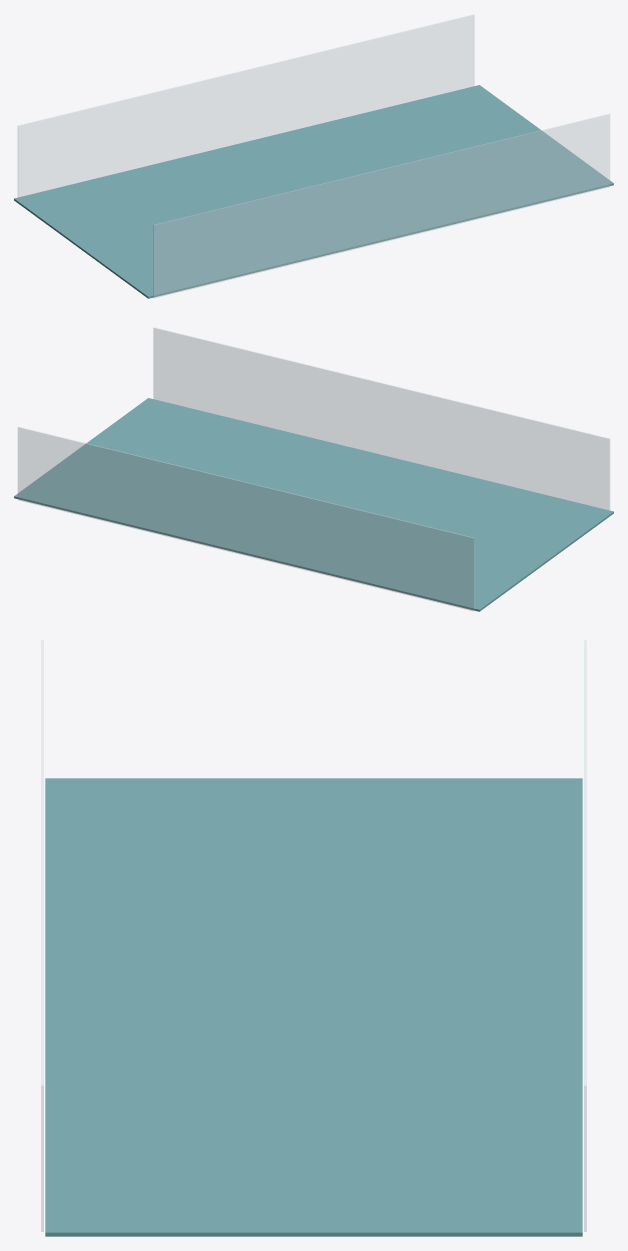
Rendered from padel-court.glb.
3 renders of one model, top to bottom at view 1: azimuth 30°, elevation 25°; view 2: azimuth 150°, elevation 25°; view 3: azimuth 270°, elevation 25°, orthographic. The views are drawn at different scales.
Parts seen in each view (by area): view 1: spatial-root; view 2: spatial-root; view 3: spatial-root.
Boxes of the visible parts, left/top/right/bottom form: spatial-root: left=14, top=14, right=613, bottom=298; spatial-root: left=14, top=327, right=613, bottom=611; spatial-root: left=41, top=640, right=586, bottom=1236.
Size of the model in its own units: 20 by 3 by 10.16.
